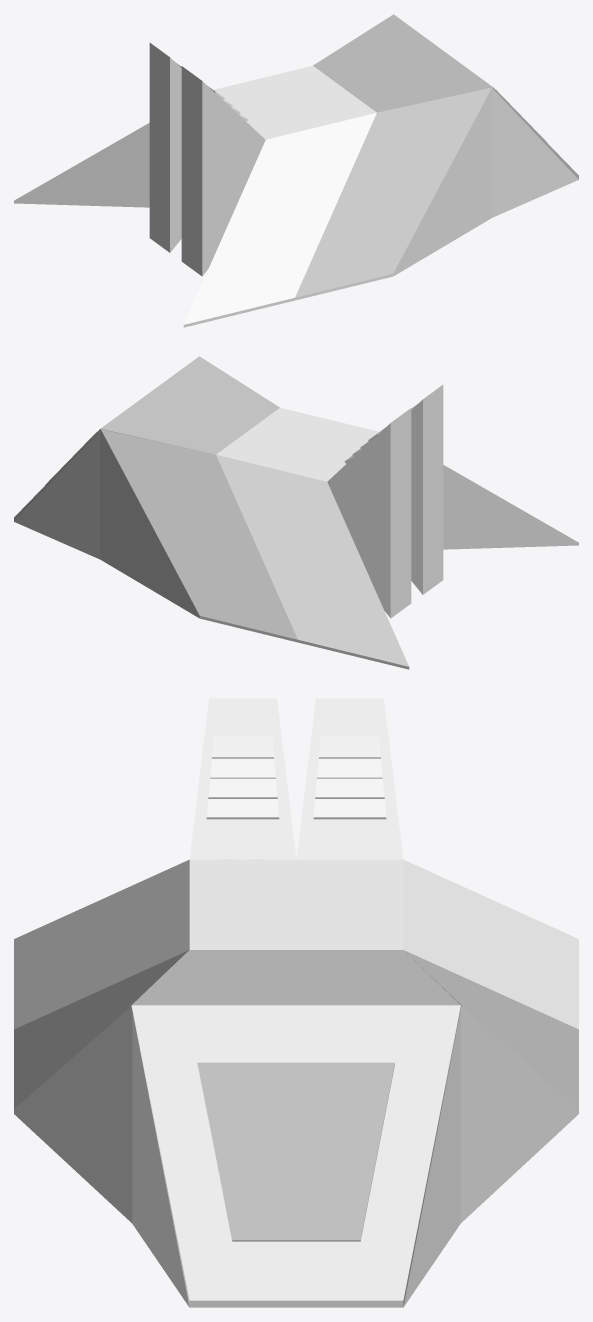
Rendered from Spaceship.fbx.
3 views of the same model, one above another, from view 1: azimuth 30°, elevation 25°; view 2: azimuth 150°, elevation 25°; view 3: azimuth 270°, elevation 25° (orthographic). The views are drawn at different scales.
Visible parts, largest first — view 1: Cube; view 2: Cube; view 3: Cube.
Part boxes in pixels (x1,y1,x2,y2): Cube: [14, 14, 578, 327]; Cube: [14, 356, 578, 669]; Cube: [14, 698, 578, 1307].
Bounding box in the file's own units: 3222 × 1345 × 2114.
1 material, 1 textured.
